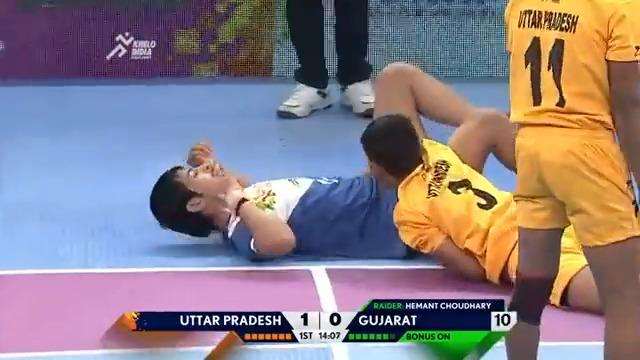Player: (360, 59, 637, 356), (501, 0, 639, 358)
Raider: (147, 138, 426, 262)
referee: (275, 0, 375, 119)
